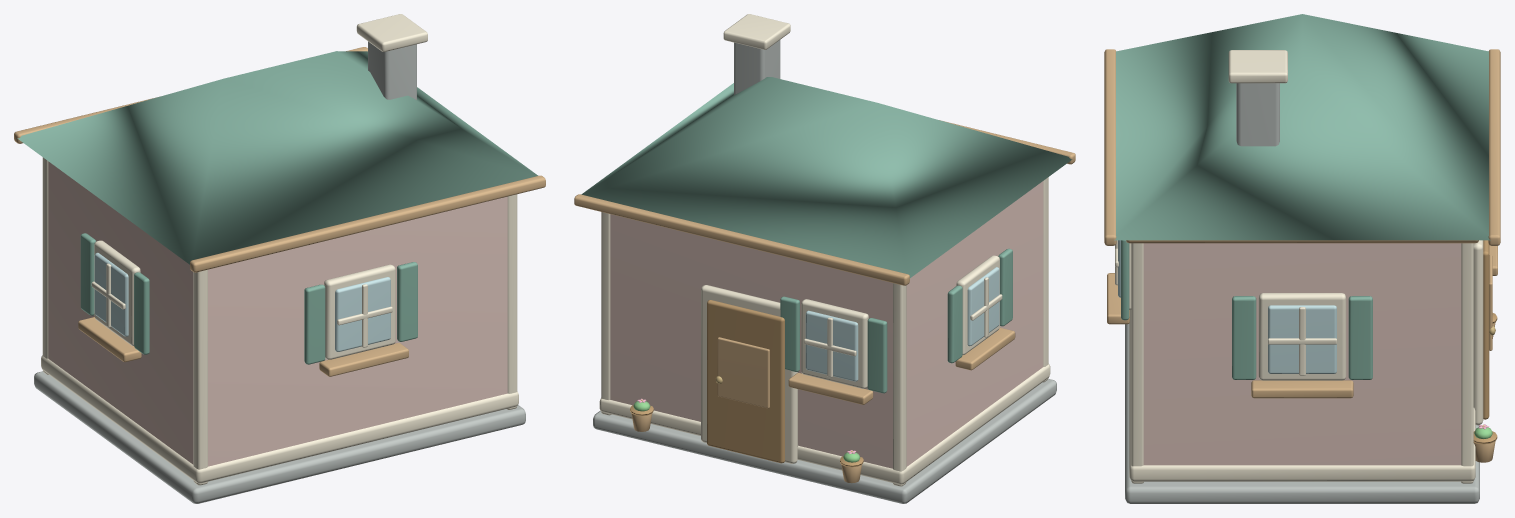
File: cottage_5.glb
3 renders of one model, left to right at view 1: azimuth 30°, elevation 25°; view 2: azimuth 150°, elevation 25°; view 3: azimuth 270°, elevation 25°, orthographic. The views are drawn at different scales.
Bounding box in the file's own units: 3.72 × 3.68 × 3.26.
